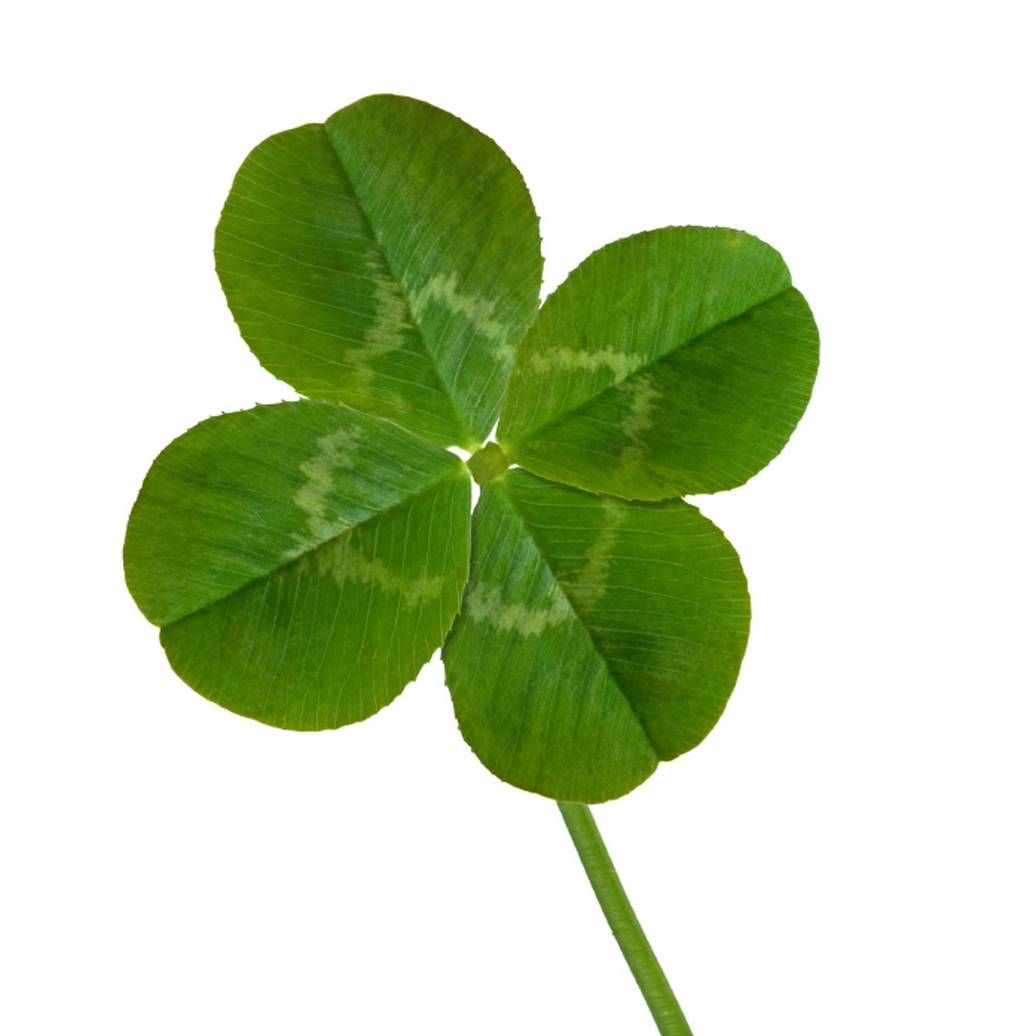daikon: (107, 71, 830, 832)
